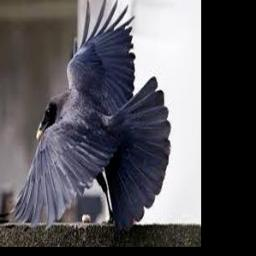Crow: (0, 0, 170, 234)
